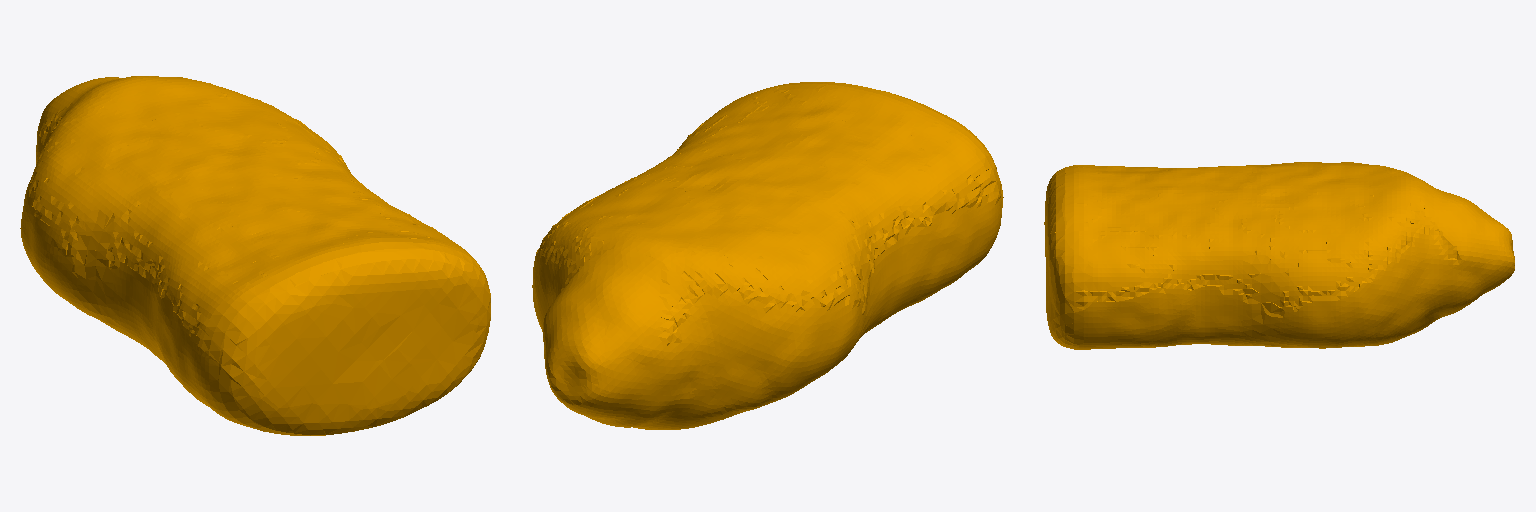
robot.urdf — mustard:
<?xml version="2.0" ?>
<robot name="mustard" xmlns:xacro="http://www.ros.org/wiki/xacro">
    <link name="mustard">
        <inertial>
            <origin rpy="0 0 0.0" xyz="-0.1 -0.1 0.2"/>
            <mass value="0.2"/>
            <inertia ixx="-0.055177224" ixy="-0.041201488" ixz="0.091877784" iyy="-0.241669888" iyz="0.010527058" izz="0.012340016"/>
        </inertial>
        <visual>
            <origin rpy="0 0 0.0" xyz="-0.1 -0.1 0.2"/>
            <geometry>
                <mesh filename="package://kuka_gripper_description/meshes/mustard.obj"/>
            </geometry>
        </visual>
        <collision>
            <origin rpy="0 0 0.0" xyz="-0.1 -0.1 0.2"/>
            <geometry>
                <mesh filename="package://kuka_gripper_description/meshes/mustard.obj"/>
            </geometry>
        </collision>
    </link>
</robot>

--- Render facts (derived) ---
3 views of the same robot in one strip: view 1: azimuth 30°, elevation 25°; view 2: azimuth 150°, elevation 25°; view 3: azimuth 270°, elevation 25° (orthographic).
Model mustard with 1 links and 0 joints (none), rooted at mustard, posed all joints at 0.
Visible links, largest first — view 1: mustard; view 2: mustard; view 3: mustard.
Boxes of the visible links, x1,y1,x2,y2 form: mustard: [20, 76, 490, 435]; mustard: [532, 82, 1003, 429]; mustard: [1044, 162, 1514, 349].
Bounding box of the posed robot: 0.1037 × 0.1875 × 0.0629 m (x, y, z).
Meshes: 1 distinct files referenced, 1 mesh visuals loaded (1 OBJ).